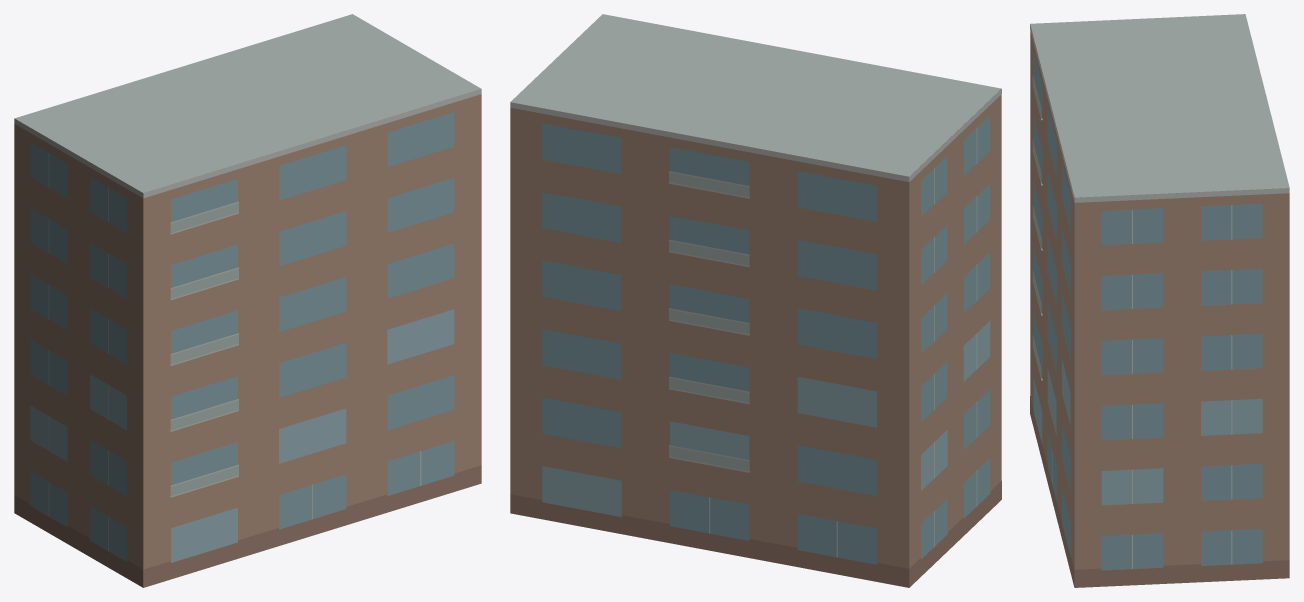
Rendered from survey-upis-32700337.glb.
3 renders of one model, left to right at view 1: azimuth 30°, elevation 25°; view 2: azimuth 150°, elevation 25°; view 3: azimuth 270°, elevation 25°, orthographic. The views are drawn at different scales.
Parts seen in each view (by area): view 1: survey-upis-32700337.tmp; view 2: survey-upis-32700337.tmp; view 3: survey-upis-32700337.tmp.
Boxes of the visible parts, x1=… form: survey-upis-32700337.tmp: x1=14, y1=14, x2=481, y2=587; survey-upis-32700337.tmp: x1=510, y1=14, x2=1001, y2=587; survey-upis-32700337.tmp: x1=1030, y1=14, x2=1289, y2=587.
Bounding box in the file's own units: 18.48 × 18.3 × 11.04.
